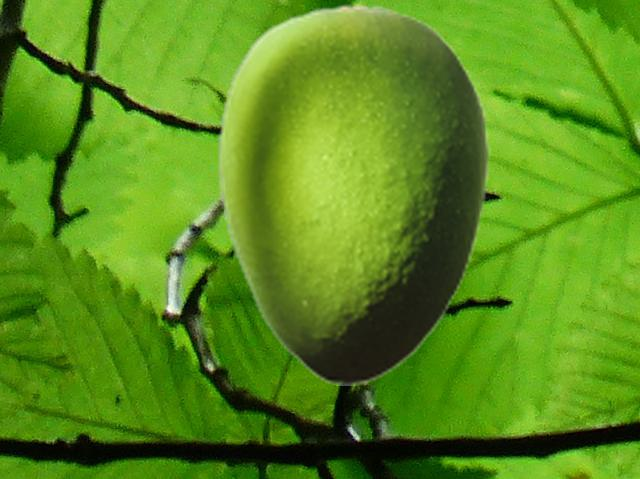green_mango: (216, 3, 489, 384)
